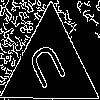U: (25, 41, 73, 100)
